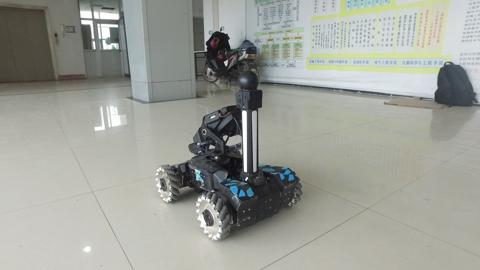bag: (427, 60, 477, 118)
chariot: (146, 68, 313, 245)
